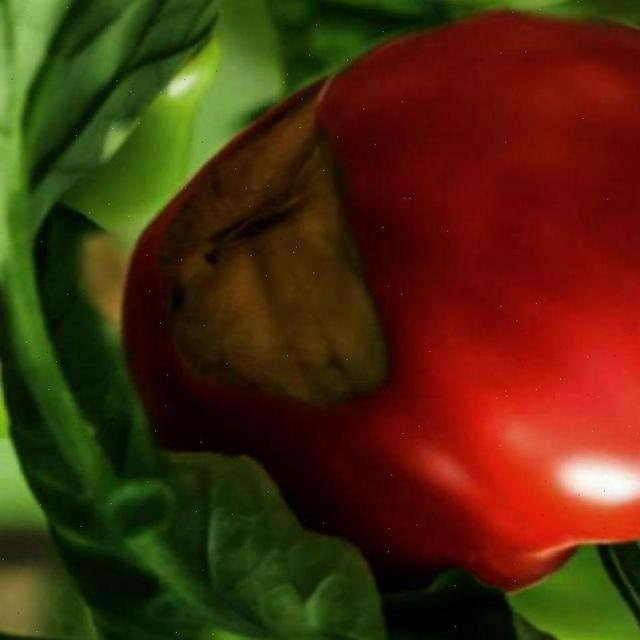Blossom End Rot Fruit: (98, 40, 263, 277)
